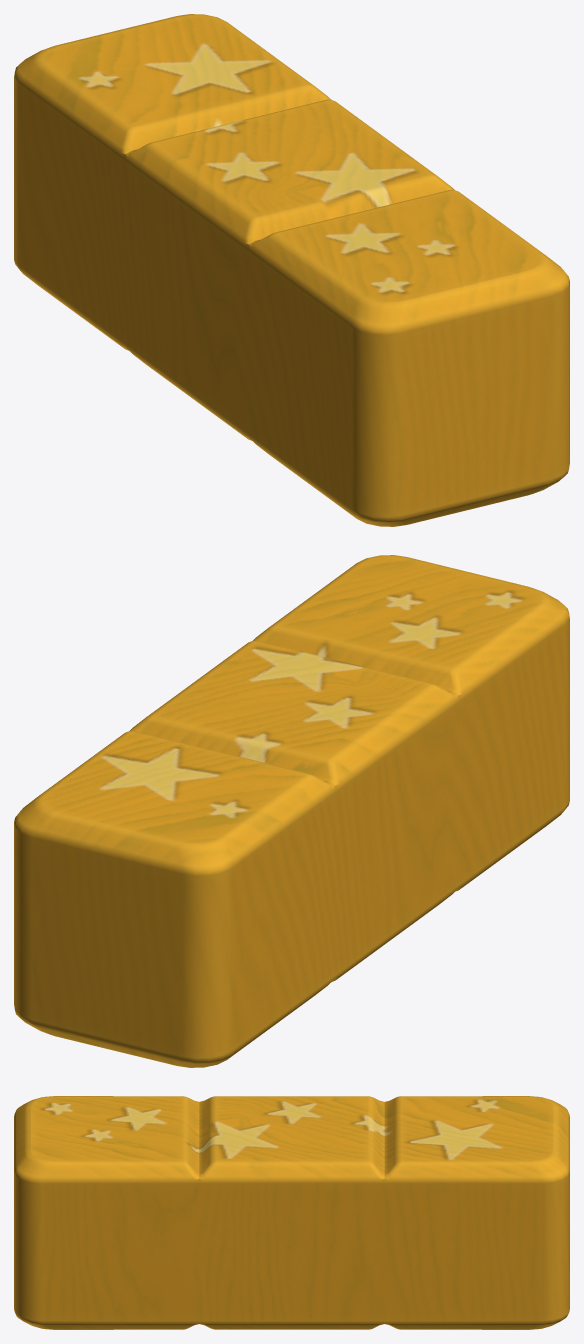
The model's file is Star_Block_07.fbx.
3 renders of one model, top to bottom at view 1: azimuth 30°, elevation 25°; view 2: azimuth 150°, elevation 25°; view 3: azimuth 270°, elevation 25°, orthographic. The views are drawn at different scales.
Parts seen in each view (by area): view 1: Star_Block_07; view 2: Star_Block_07; view 3: Star_Block_07.
Part boxes in pixels (left/top/right/bottom): Star_Block_07: left=14, top=14, right=569, bottom=526; Star_Block_07: left=14, top=555, right=569, bottom=1067; Star_Block_07: left=14, top=1096, right=569, bottom=1329.
Bounding box in the file's own units: 1 × 1 × 3.
1 material, 1 textured.
